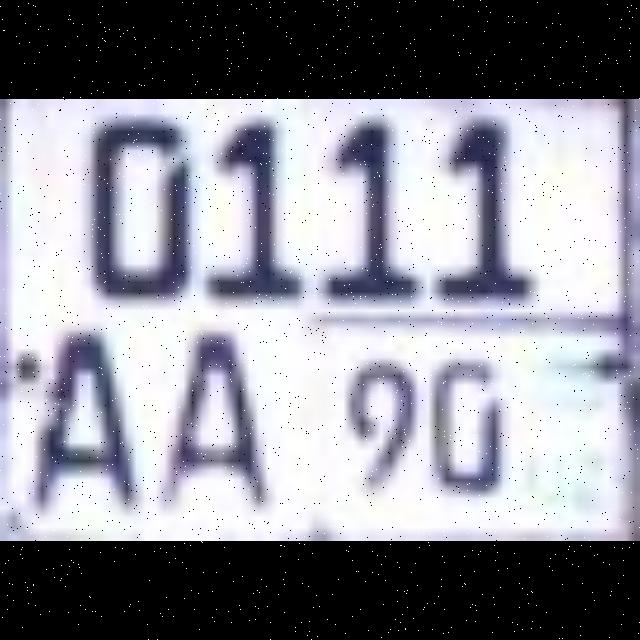0: (75, 109, 179, 288), (414, 344, 490, 484)
1: (188, 109, 292, 288), (414, 109, 518, 288), (311, 109, 405, 288)
9: (330, 344, 404, 476)
A: (18, 324, 132, 503), (150, 324, 264, 503)
